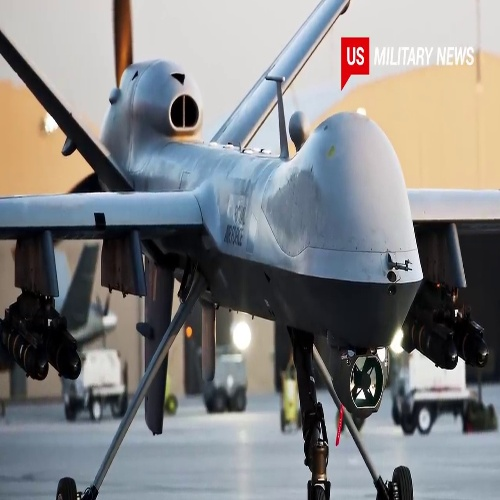uav: (1, 1, 498, 500)
